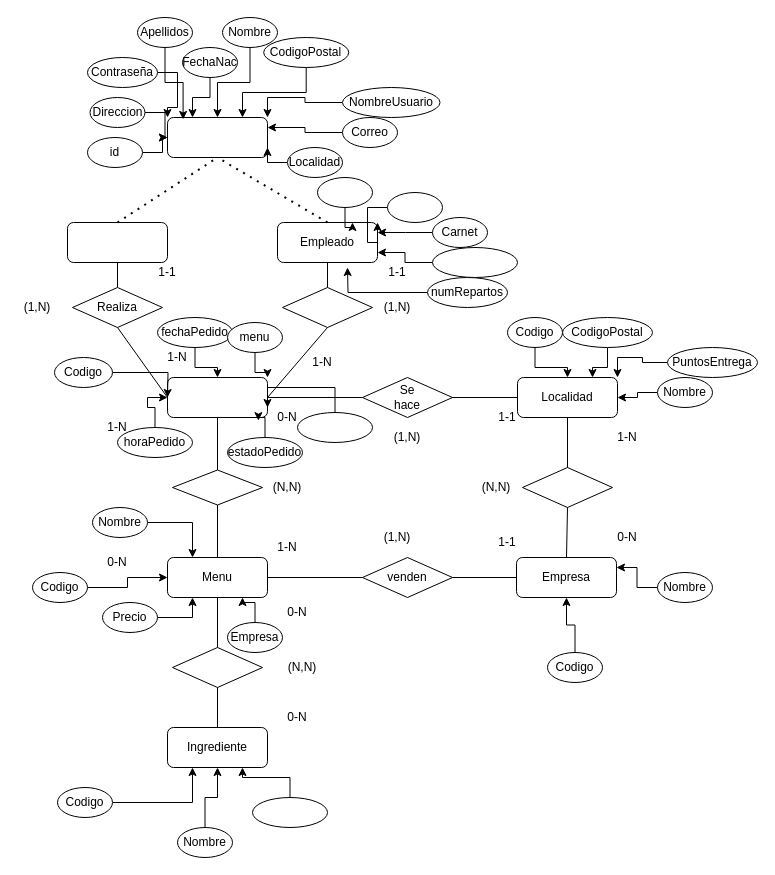
The diagram is 775 pixels wide and 875 high, and some of its shapes have lost their labels. The centre of each missing label's shape, as x and y in pixels:
Cliente: [117,242]
Contiene: [217,667]
Descripcion: [290,812]
Dni: [414,207]
Entrega: [327,307]
Esta: [567,487]
Nomina: [344,192]
Pedido: [217,397]
Persona: [217,137]
precioPedido: [334,427]
Tiene: [217,487]
tipoVehiculo: [475,262]
